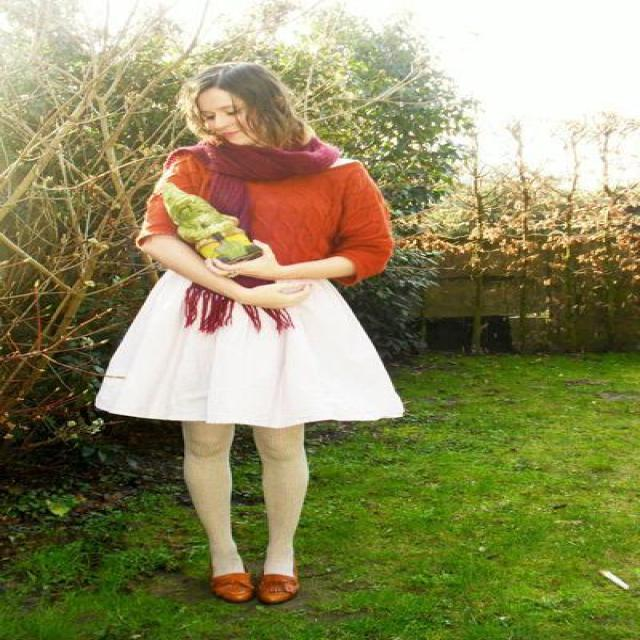jacket: (144, 145, 394, 301)
shoe: (212, 566, 298, 600)
skirt: (95, 270, 402, 427)
